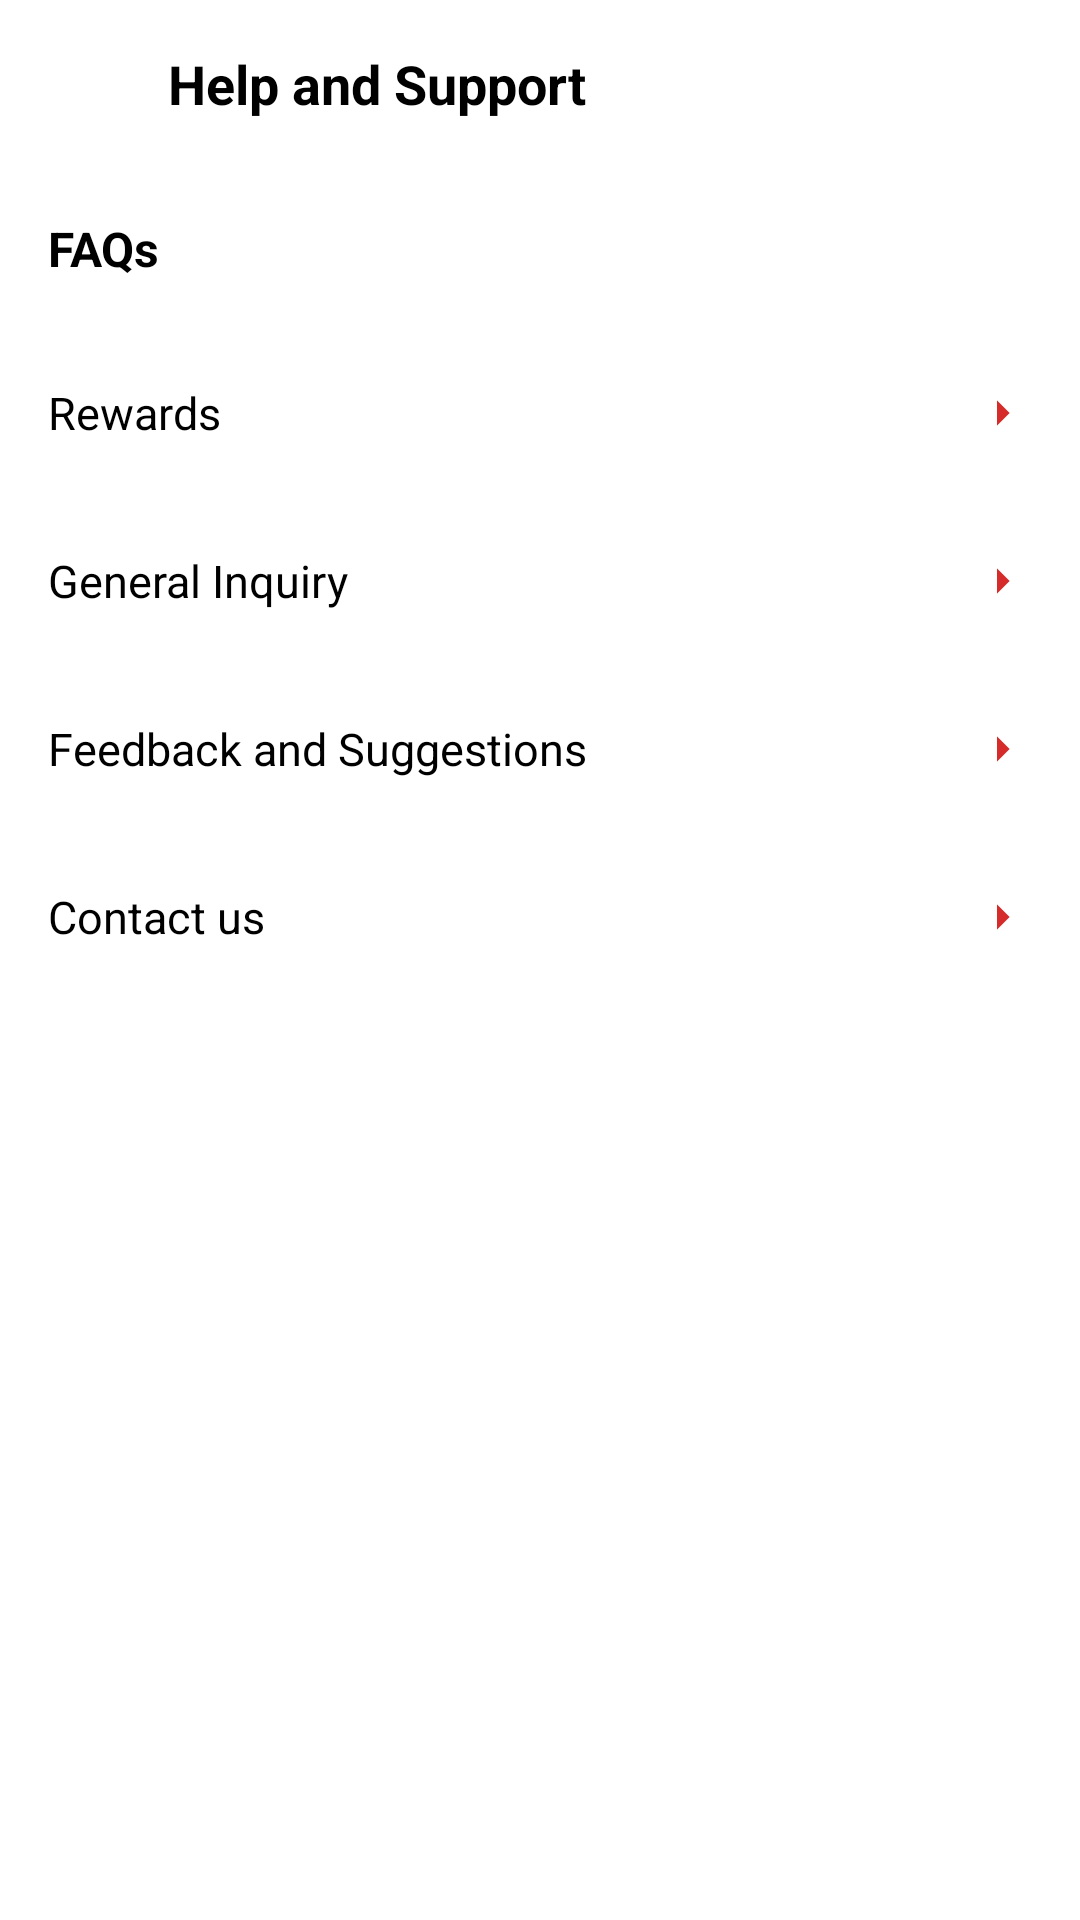

Where icons sit on this 1080w x 1920h app screen, as BBox(x1, y1, x2, y2):
arrow right: BBox(997, 400, 1010, 426), BBox(997, 568, 1010, 594), BBox(997, 736, 1010, 762), BBox(997, 904, 1010, 930)
